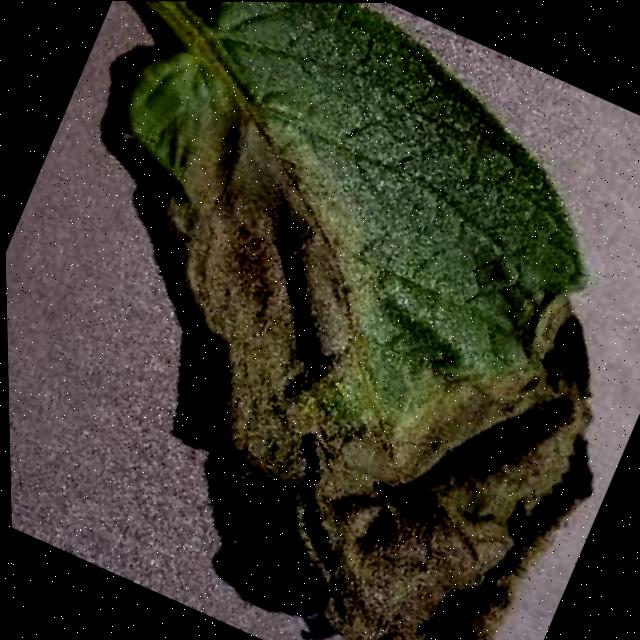Late_blight: (2, 68, 640, 640)
